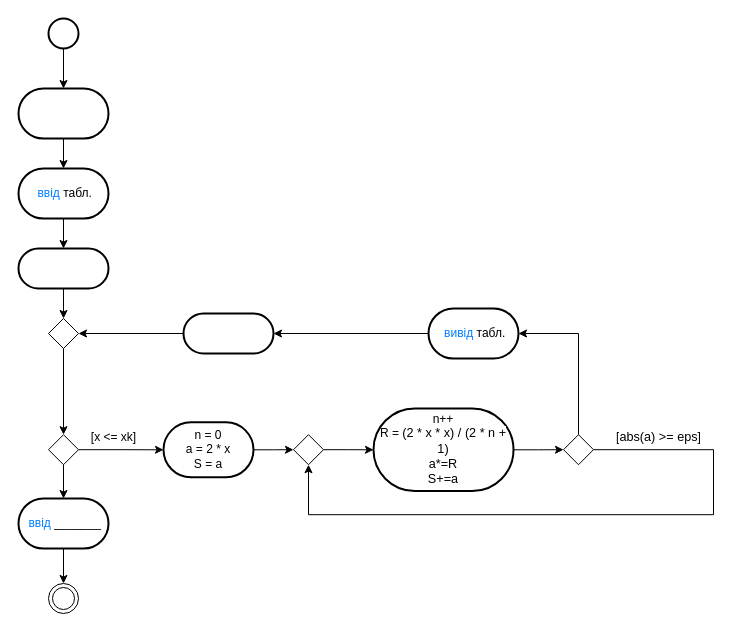
The diagram is 740 pixels wide and 631 high, and some of its shapes have lost their labels. The centre of each missing label's shape, as x and y in pixels:
"x = xp" belongs at (x=63, y=268).
"x+=dx" belongs at (x=228, y=333).
"ввід xp, xk, dx, eps" belongs at (x=63, y=113).
